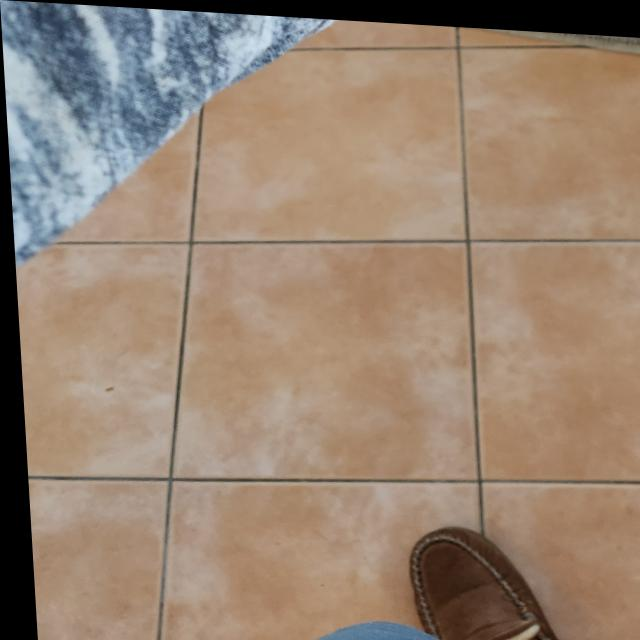soy sauce: (618, 29, 640, 112)
